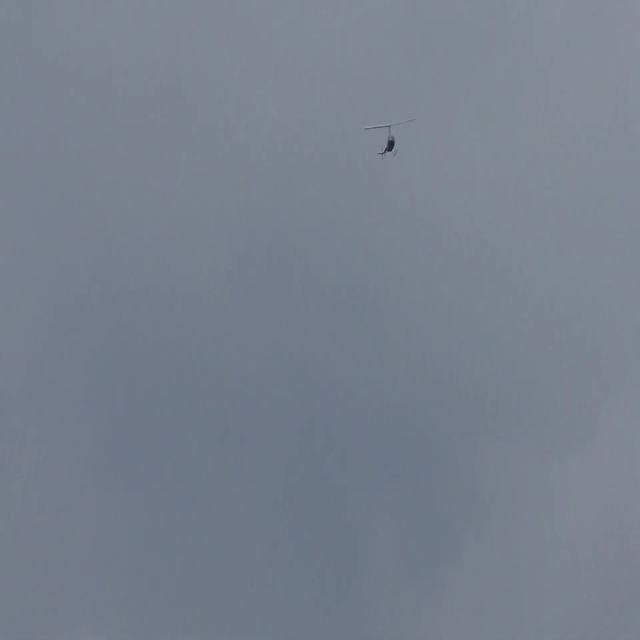CIV_HELO: (378, 122, 398, 160)
